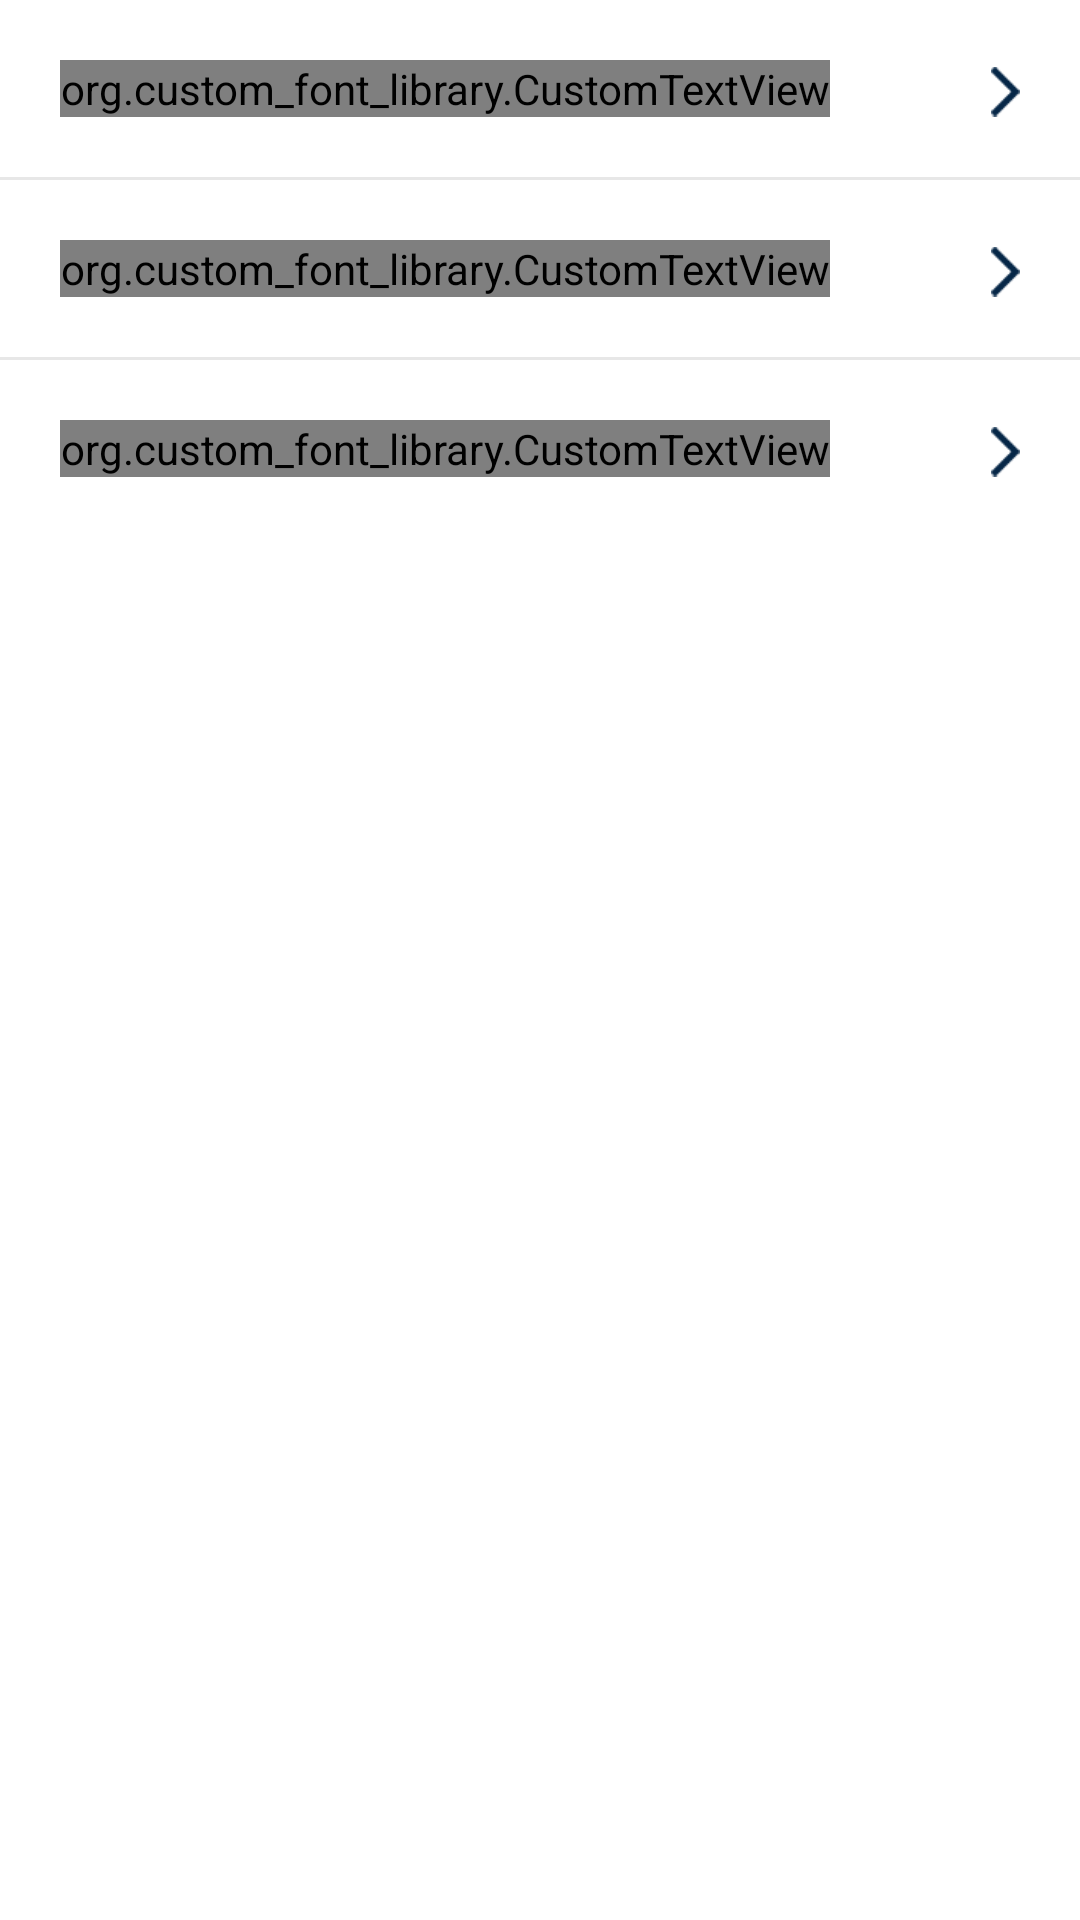

Point at icon controls on the screen. Image size 1080 × 1920, points as (x,y).
forward arrow: (1005,92), (1005,272), (1005,452)
